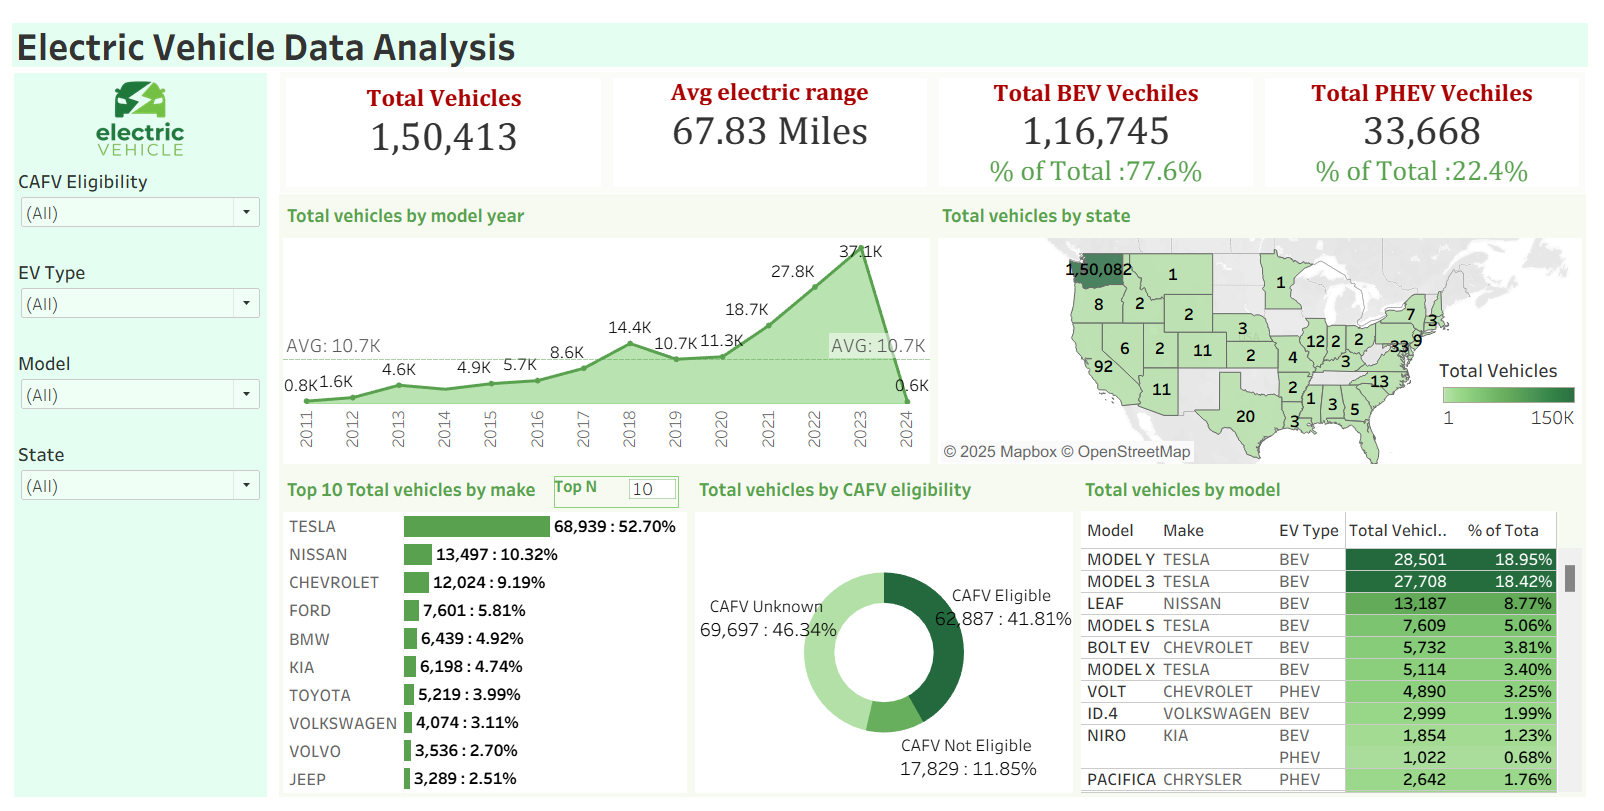

The dashboard page shown, as its layout file describes it:
{"tool":"tableau","page":{"name":"Dashboard 1","canvas":[1600,800],"ordinal":0},"visuals":[{"type":"title","box":[8,8,1584,52]},{"type":"worksheet","title":"Total vehicles","mark":"Automatic","box":[280,61,327,121]},{"type":"worksheet","title":"Avg electric range","mark":"Automatic","box":[607,61,326,121]},{"type":"worksheet","title":"Total BEV vehicles","mark":"Automatic","box":[933,61,326,121]},{"type":"worksheet","title":"Total PHEV vehicles","mark":"Automatic","box":[1259,61,326,121]},{"type":"image","param":"C:/Users/vshivani/Desktop/shivani/Tableau/electric vehicle/EVlogo.png","box":[14,62,253,91]},{"type":"filter","title":"Total vehicles by model year","param":"[federated.1dpi7z00bbtyku1co9ruc01wex1t].[none:Clean Alternative Fuel Vehicle (C","box":[14,153,253,91]},{"type":"worksheet","title":"Total vehicles by model year","mark":"Area","rows":["Calculation_1347139296892690432","Calculation_1347139296892690432"],"cols":["Model Year"],"box":[279,183,655,274]},{"type":"worksheet","title":"Total vehicles by state","mark":"Multipolygon","box":[934,183,652,274]},{"type":"filter","title":"Total vehicles by model year","param":"[federated.1dpi7z00bbtyku1co9ruc01wex1t].[none:Electric Vehicle Type:nk]","box":[14,244,253,91]},{"type":"filter","title":"Total vehicles by model year","param":"[federated.1dpi7z00bbtyku1co9ruc01wex1t].[none:Model:nk]","box":[14,335,253,91]},{"type":"legend","title":"Total vehicles by state","param":"[federated.1dpi7z00bbtyku1co9ruc01wex1t].[usr:Calculation_1347139296892690432:qk","box":[1439,346,140,100]},{"type":"filter","title":"Total vehicles by model year","param":"[federated.1dpi7z00bbtyku1co9ruc01wex1t].[none:State:nk]","box":[14,426,253,90]},{"type":"worksheet","title":"Top 10 Total vehicles by Make","mark":"Automatic","rows":["Make"],"cols":["Calculation_1347139296892690432"],"box":[279,457,412,329]},{"type":"worksheet","title":"Total vehicles by CAFV eligibility","mark":"Pie","rows":["Calculation_1545860630679957510","Calculation_1545860630679957510"],"box":[691,457,386,329]},{"type":"worksheet","title":"Total vehicles by model","mark":"Square","rows":["Model","Make","Electric Vehicle Type"],"box":[1077,457,509,329]},{"type":"parameter","param":"[Parameters].[Parameter 1]","box":[554,465,125,32]},{"type":"blank","box":[14,516,253,90]},{"type":"blank","box":[14,606,253,90]},{"type":"blank","box":[14,696,253,90]}]}

Visuals, with their boxes in screenshot pixels (x1, y1, x2, y2), scaled from the page's 1600x800 canvas onto the 1604x811 screenshot:
title: (8, 8, 1596, 61)
"Total vehicles" worksheet: (281, 62, 609, 185)
"Avg electric range" worksheet: (609, 62, 935, 185)
"Total BEV vehicles" worksheet: (935, 62, 1262, 185)
"Total PHEV vehicles" worksheet: (1262, 62, 1589, 185)
image: (14, 63, 268, 155)
"Total vehicles by model year" filter: (14, 155, 268, 247)
"Total vehicles by model year" worksheet (Area marks): (280, 186, 936, 463)
"Total vehicles by state" worksheet (Multipolygon marks): (936, 186, 1590, 463)
"Total vehicles by model year" filter: (14, 247, 268, 340)
"Total vehicles by model year" filter: (14, 340, 268, 432)
"Total vehicles by state" legend: (1443, 351, 1583, 452)
"Total vehicles by model year" filter: (14, 432, 268, 523)
"Top 10 Total vehicles by Make" worksheet: (280, 463, 693, 797)
"Total vehicles by CAFV eligibility" worksheet (Pie marks): (693, 463, 1080, 797)
"Total vehicles by model" worksheet (Square marks): (1080, 463, 1590, 797)
parameter: (555, 471, 681, 504)
blank: (14, 523, 268, 614)
blank: (14, 614, 268, 706)
blank: (14, 706, 268, 797)
